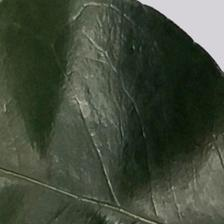healthy: (1, 7, 176, 213)
